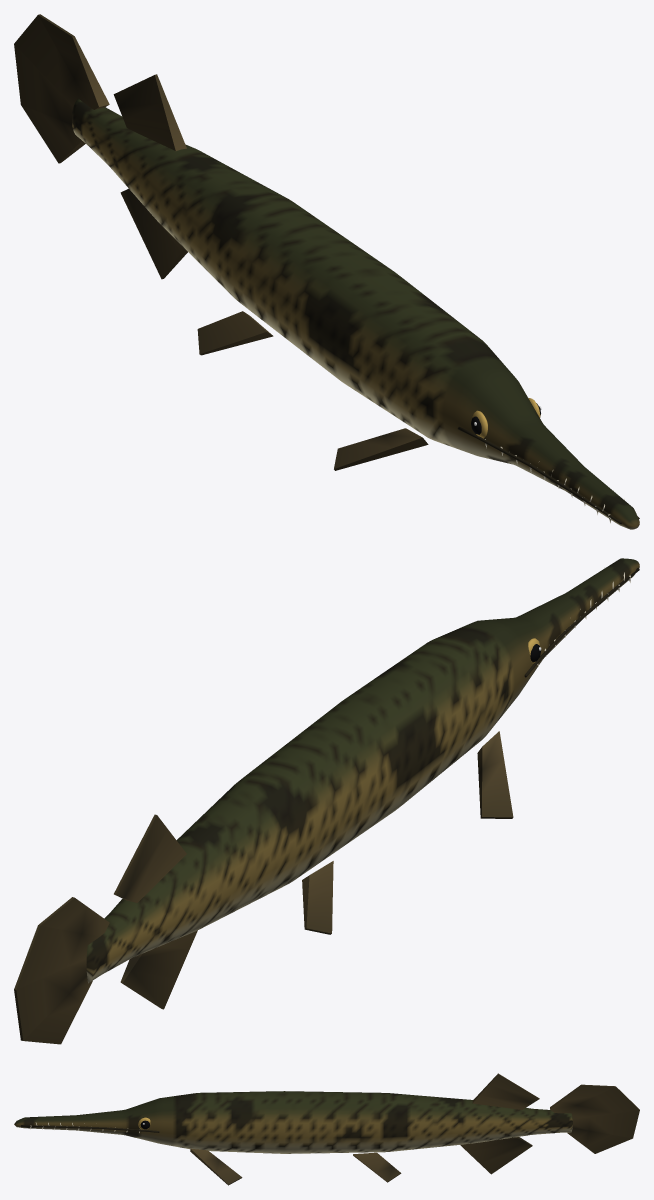
File: AtractosteusSimplex.fbx
3 renders of one model, top to bottom at view 1: azimuth 30°, elevation 25°; view 2: azimuth 150°, elevation 25°; view 3: azimuth 270°, elevation 25°, orthographic. The views are drawn at different scales.
Visible parts, largest first — view 1: AtractosteusSimplex; view 2: AtractosteusSimplex; view 3: AtractosteusSimplex.
Boxes of the visible parts, <box> form: AtractosteusSimplex: <box>14,14,639,529</box>; AtractosteusSimplex: <box>14,558,639,1044</box>; AtractosteusSimplex: <box>14,1073,639,1185</box>.
Size of the model in its own units: 0.3023 by 0.3208 by 1.81.
